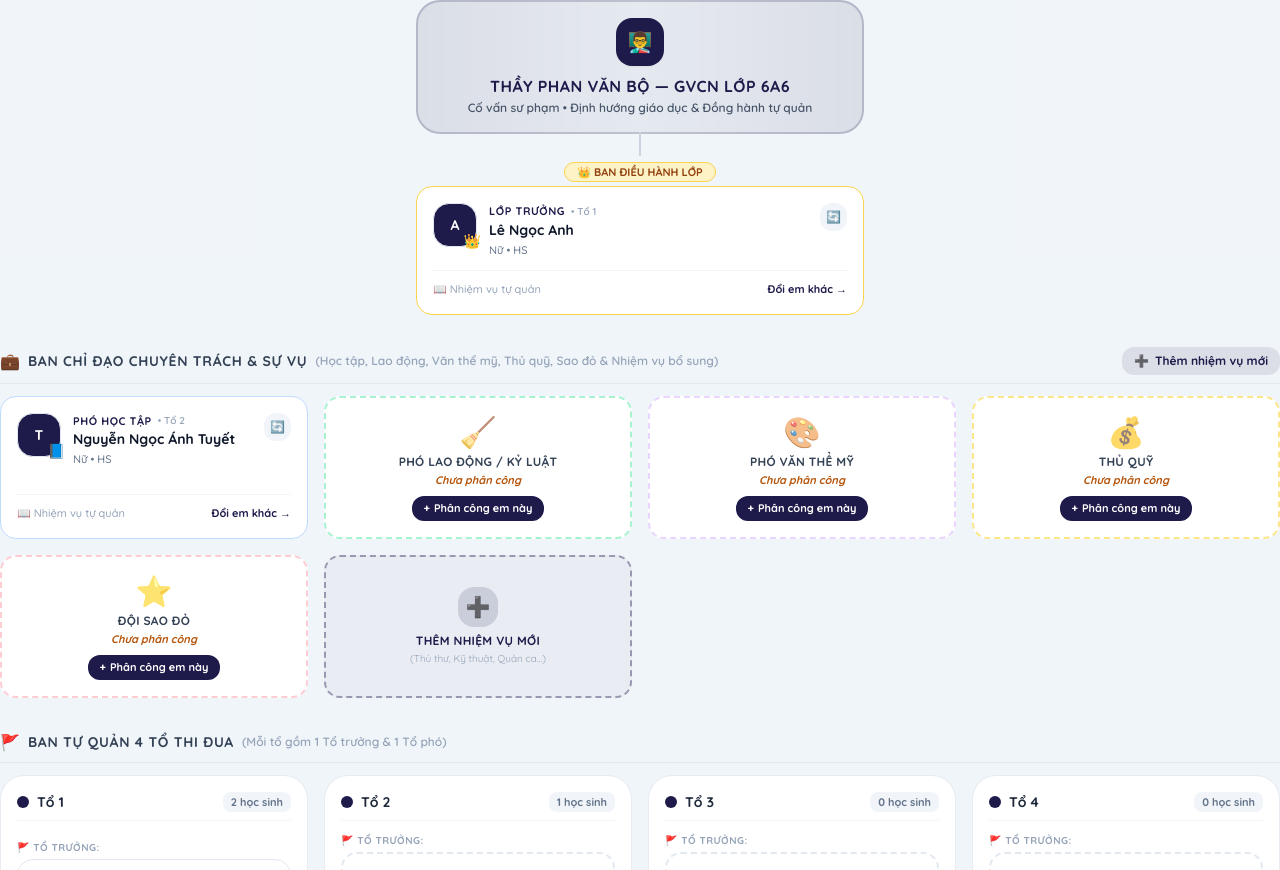
Test: ClassOfficerOrgChart Component › 6. Mở modal thêm nhiệm vụ mới khi bấm vào thẻ Thêm nhiệm vụ mới
The image size is (1280, 870).
Check: the text "Thêm Nhiệm Vụ Mới" is shown, box 416,632 -> 540,648
Click the text "Thêm Nhiệm Vụ Mới". click: (478,626)
box: 324,554 -> 632,698
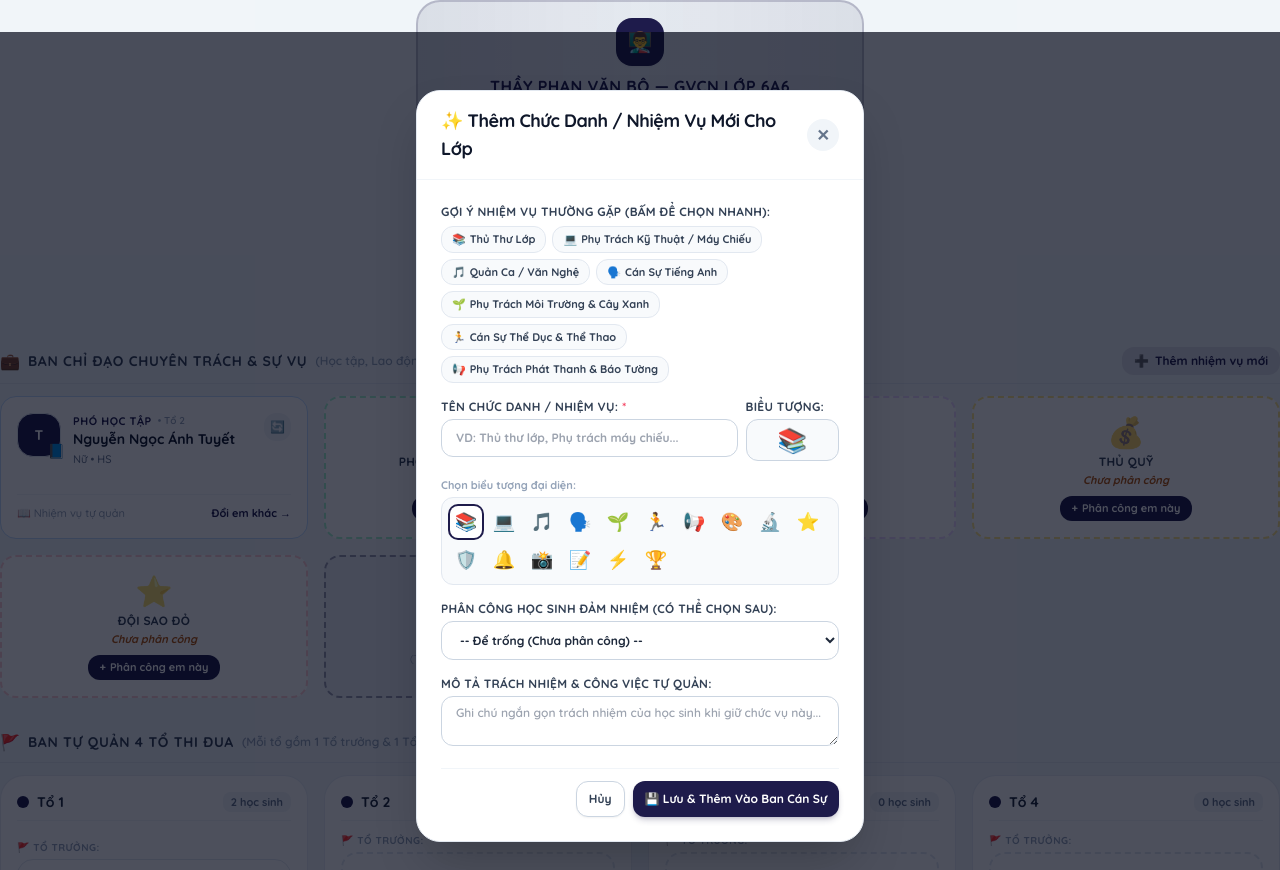
Check: the heading "✨ Thêm Chức Danh / Nhiệm Vụ Mới Cho Lớp" is shown, box 441,107 -> 807,163
